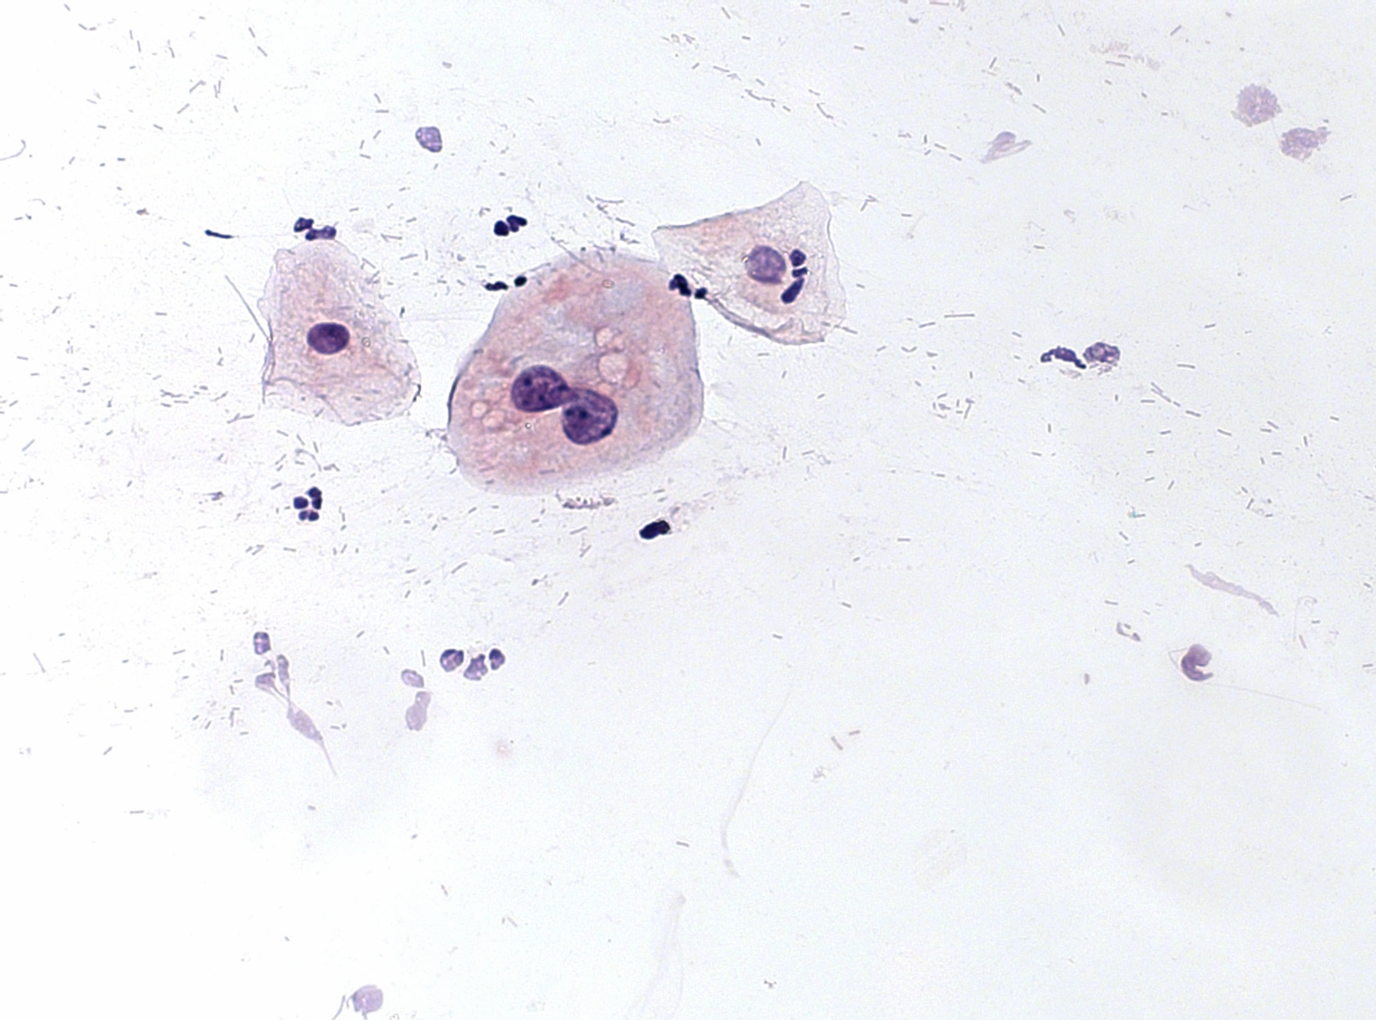Abnormal_Nucleus: (555, 382, 628, 447), (502, 358, 573, 415)
Normal_Nucleus: (741, 242, 789, 289), (301, 318, 353, 358)
